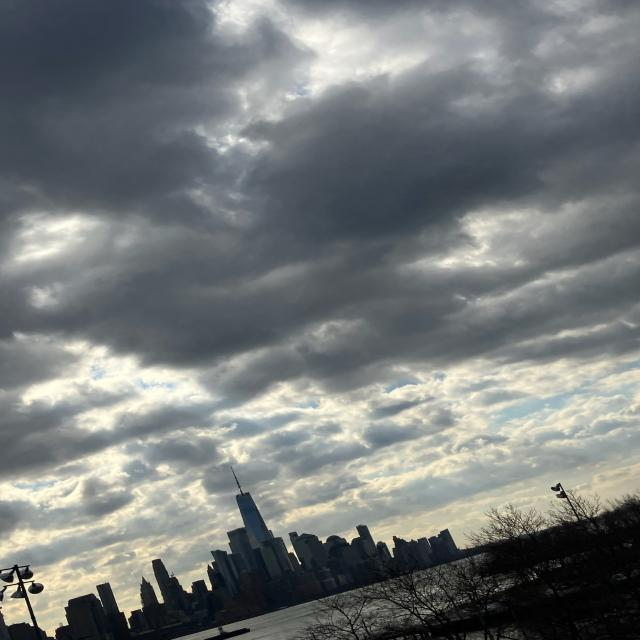WTC: (225, 464, 272, 545)
